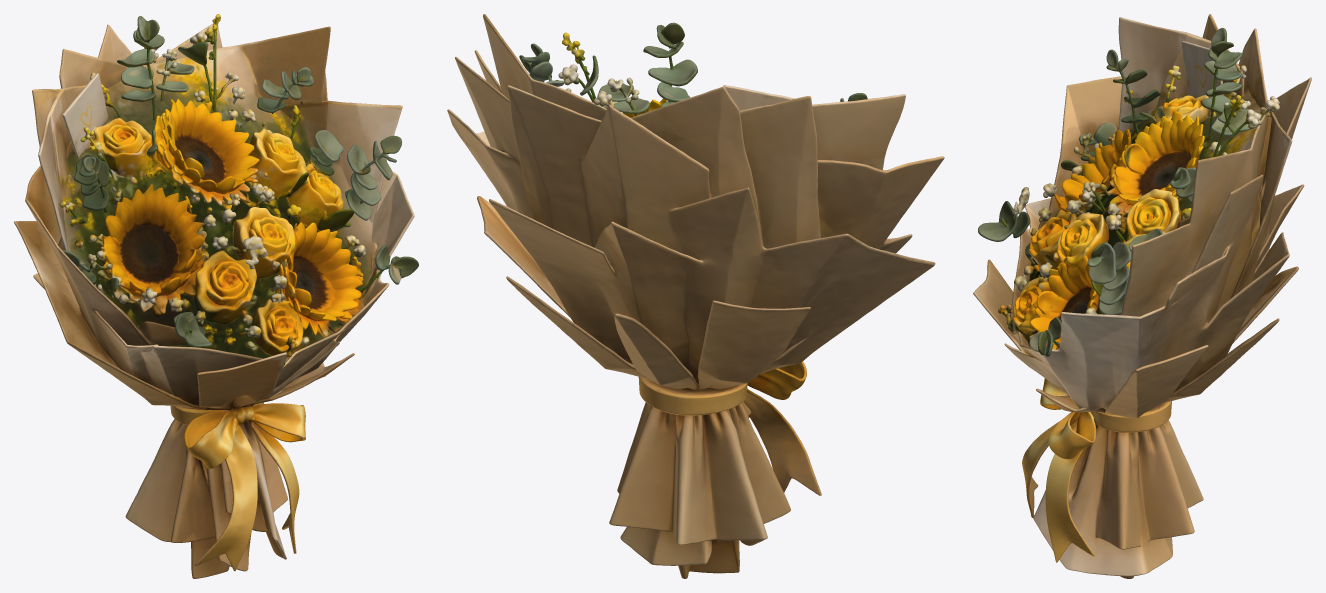
File: ramo.glb
3 renders of one model, left to right at view 1: azimuth 30°, elevation 25°; view 2: azimuth 150°, elevation 25°; view 3: azimuth 270°, elevation 25°, orthographic. The views are drawn at different scales.
Parts seen in each view (by area): view 1: tripo_node_77f3a454-3650-4f5e-a860-c71dd08c7247; view 2: tripo_node_77f3a454-3650-4f5e-a860-c71dd08c7247; view 3: tripo_node_77f3a454-3650-4f5e-a860-c71dd08c7247.
Part boxes in pixels (<box>): tripo_node_77f3a454-3650-4f5e-a860-c71dd08c7247: <box>14,14,418,578</box>; tripo_node_77f3a454-3650-4f5e-a860-c71dd08c7247: <box>447,14,944,578</box>; tripo_node_77f3a454-3650-4f5e-a860-c71dd08c7247: <box>973,14,1311,578</box>.
Bounding box in the file's own units: 0.7537 × 1 × 0.5771.
1 material, 1 textured.
